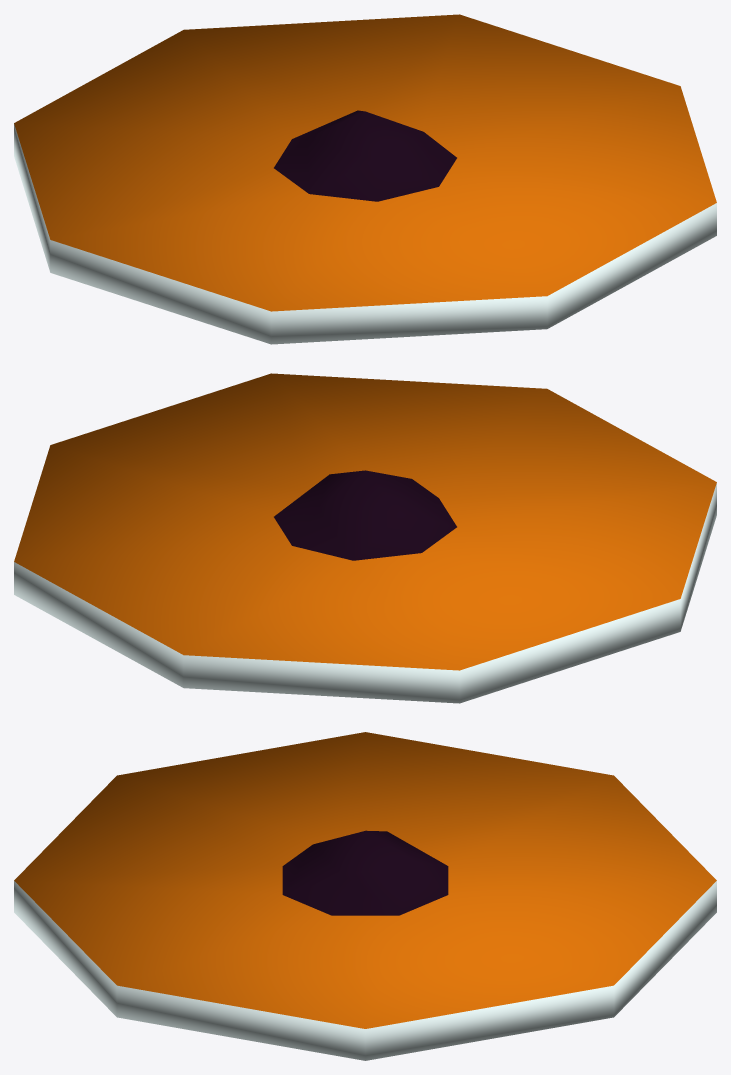
Rendered from Shild 0.fbx.
The picture shows the model from 3 angles, top to bottom: view 1: azimuth 30°, elevation 25°; view 2: azimuth 150°, elevation 25°; view 3: azimuth 270°, elevation 25°; orthographic projection. The views are drawn at different scales.
Parts seen in each view (by area): view 1: Shild_0; view 2: Shild_0; view 3: Shild_0.
Boxes of the visible parts, left/top/right/bottom form: Shild_0: left=14, top=14, right=716, bottom=344; Shild_0: left=14, top=373, right=716, bottom=703; Shild_0: left=14, top=732, right=716, bottom=1060.
Bounding box in the file's own units: 1 × 0.1282 × 1.
3 materials, 3 textured.
